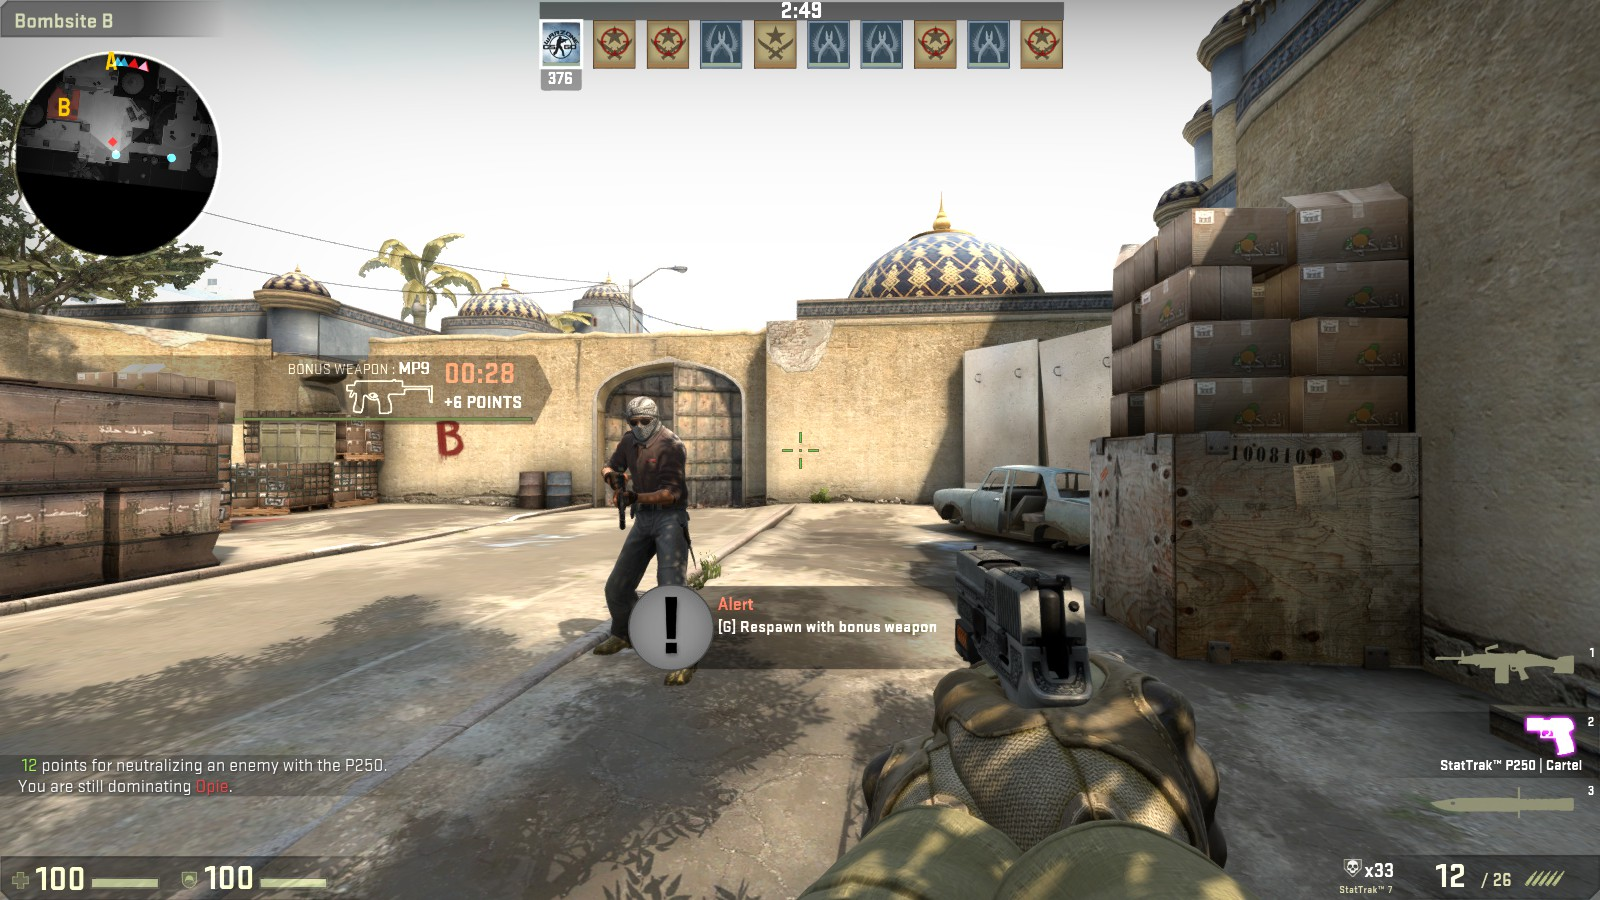t: (590, 395, 705, 664)
th: (618, 389, 667, 446)
